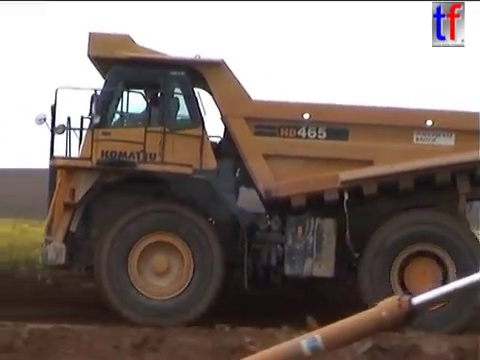excavator: (234, 267, 480, 360)
truck: (31, 28, 480, 339)
